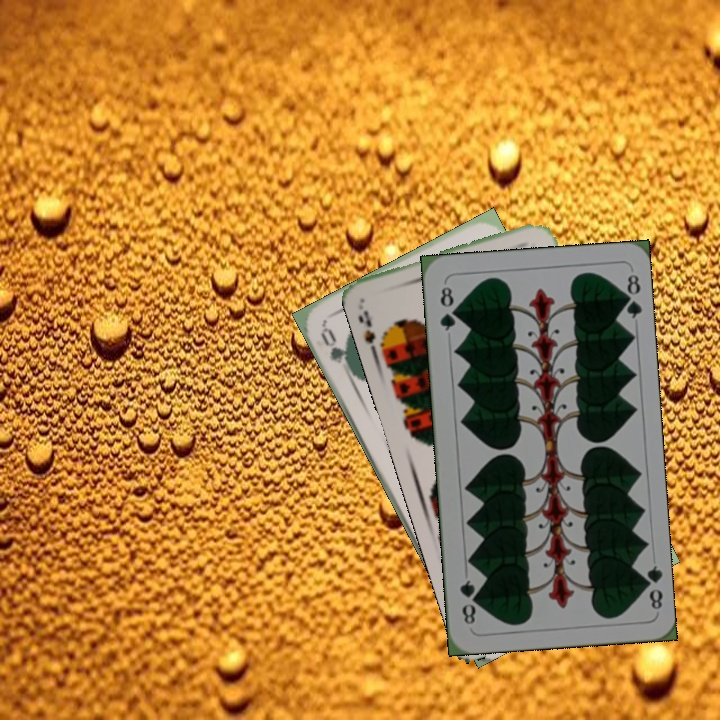G8: (636, 561, 665, 612), (435, 279, 459, 334)
GO: (316, 323, 356, 376)
S9: (354, 306, 392, 360)
